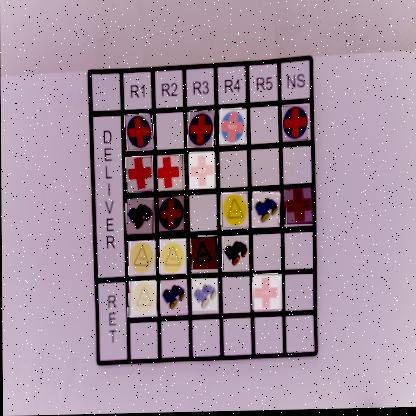OrderBlue: (126, 114, 155, 153), (189, 112, 217, 150), (159, 198, 187, 236), (221, 111, 248, 147), (284, 107, 310, 144)
OrderGurney: (252, 193, 282, 231), (127, 199, 155, 237), (223, 238, 251, 273), (193, 280, 219, 314), (162, 282, 188, 316)
OrderRed: (254, 276, 284, 313), (285, 190, 314, 228), (127, 158, 154, 195), (190, 154, 216, 192), (159, 157, 186, 191)
OrderYellow: (129, 282, 158, 320), (191, 238, 220, 273), (222, 195, 250, 230), (160, 241, 188, 276), (129, 243, 157, 278)
